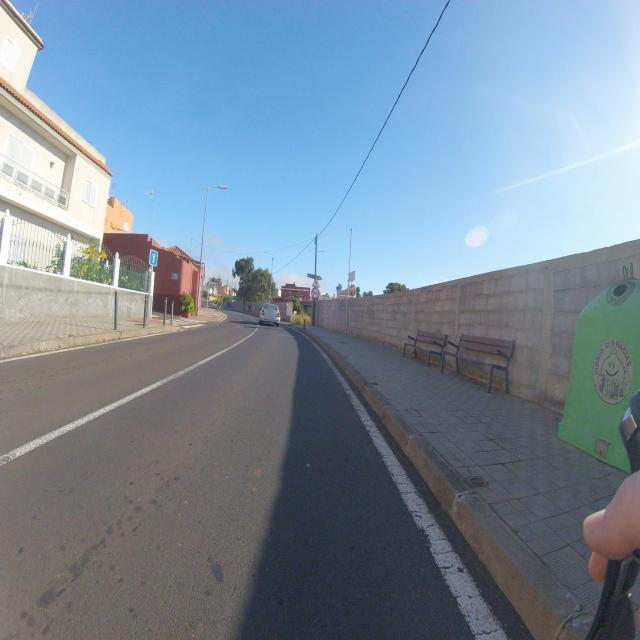car: (258, 303, 281, 327)
